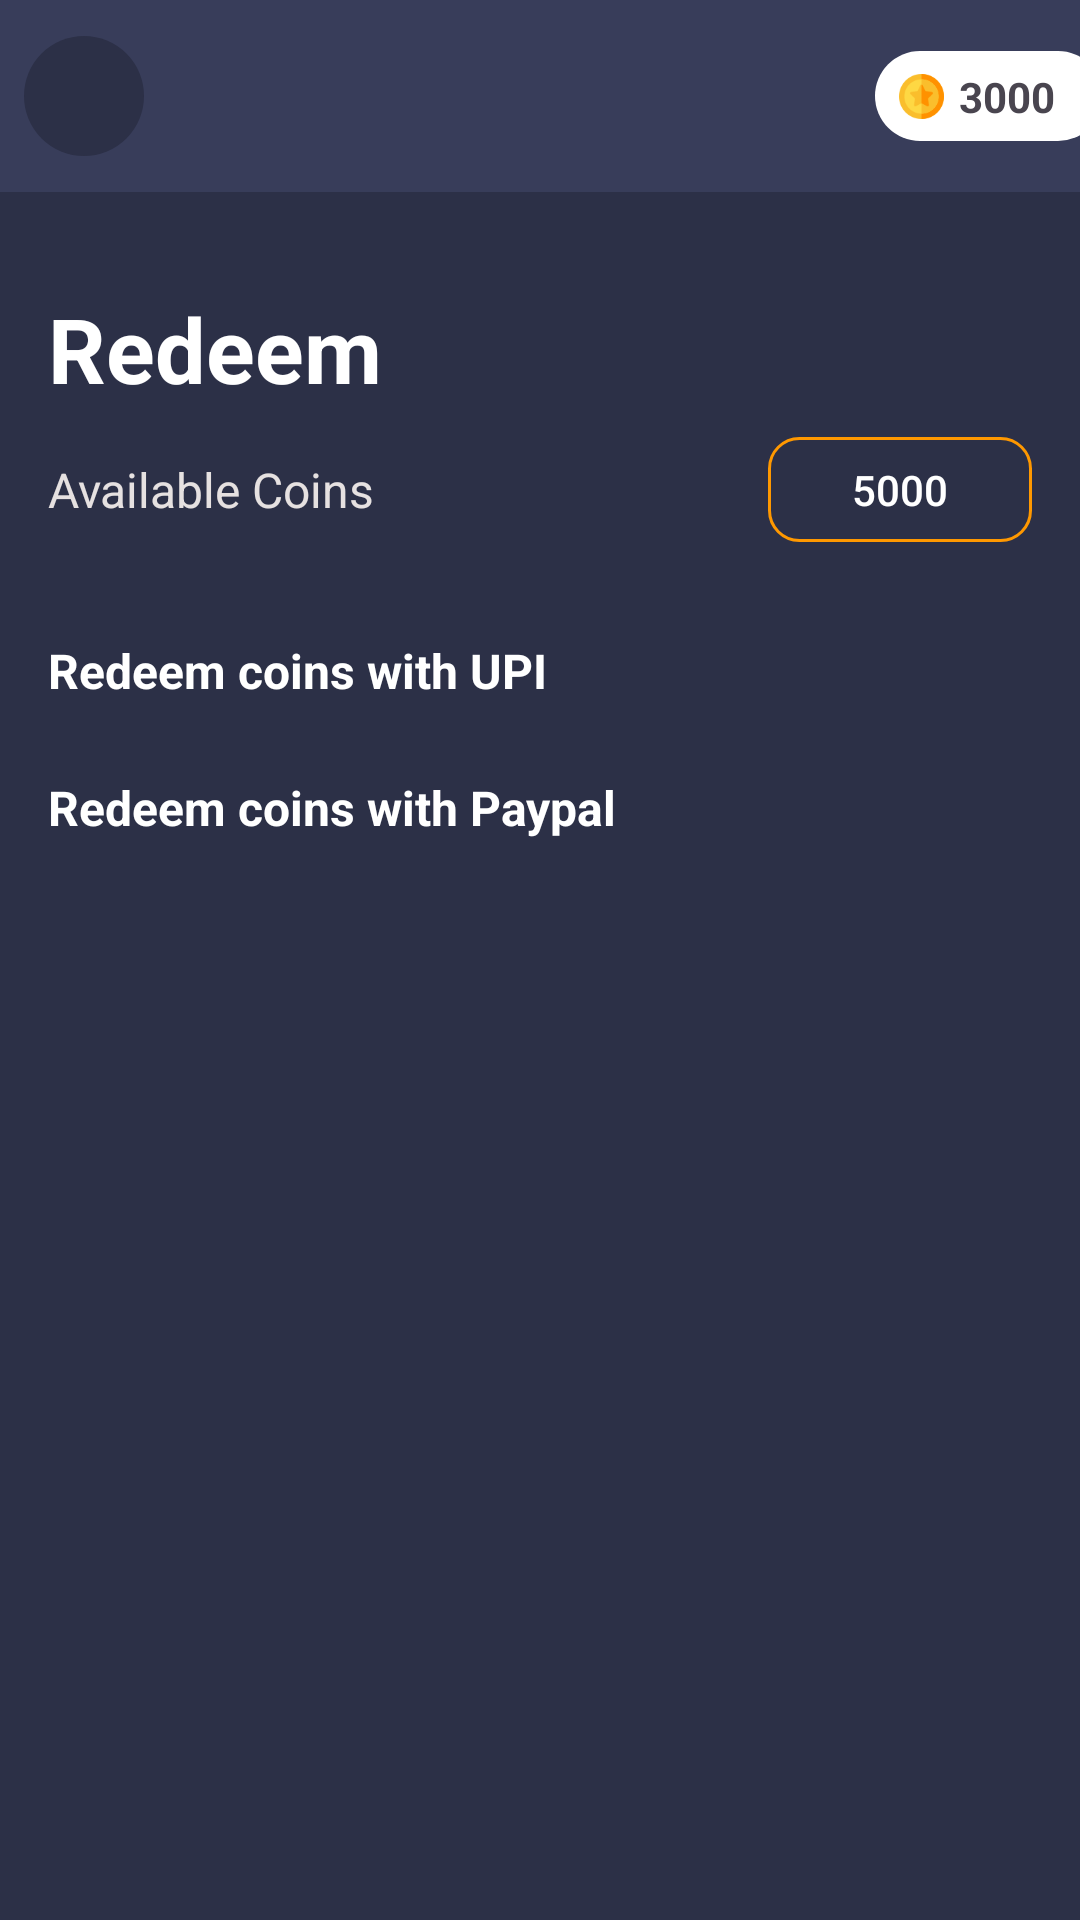

Screen size 1080*1920. Icon name, then its box in pixels as (x1, y1, x2, y2):
coin: (899, 74, 944, 119)
